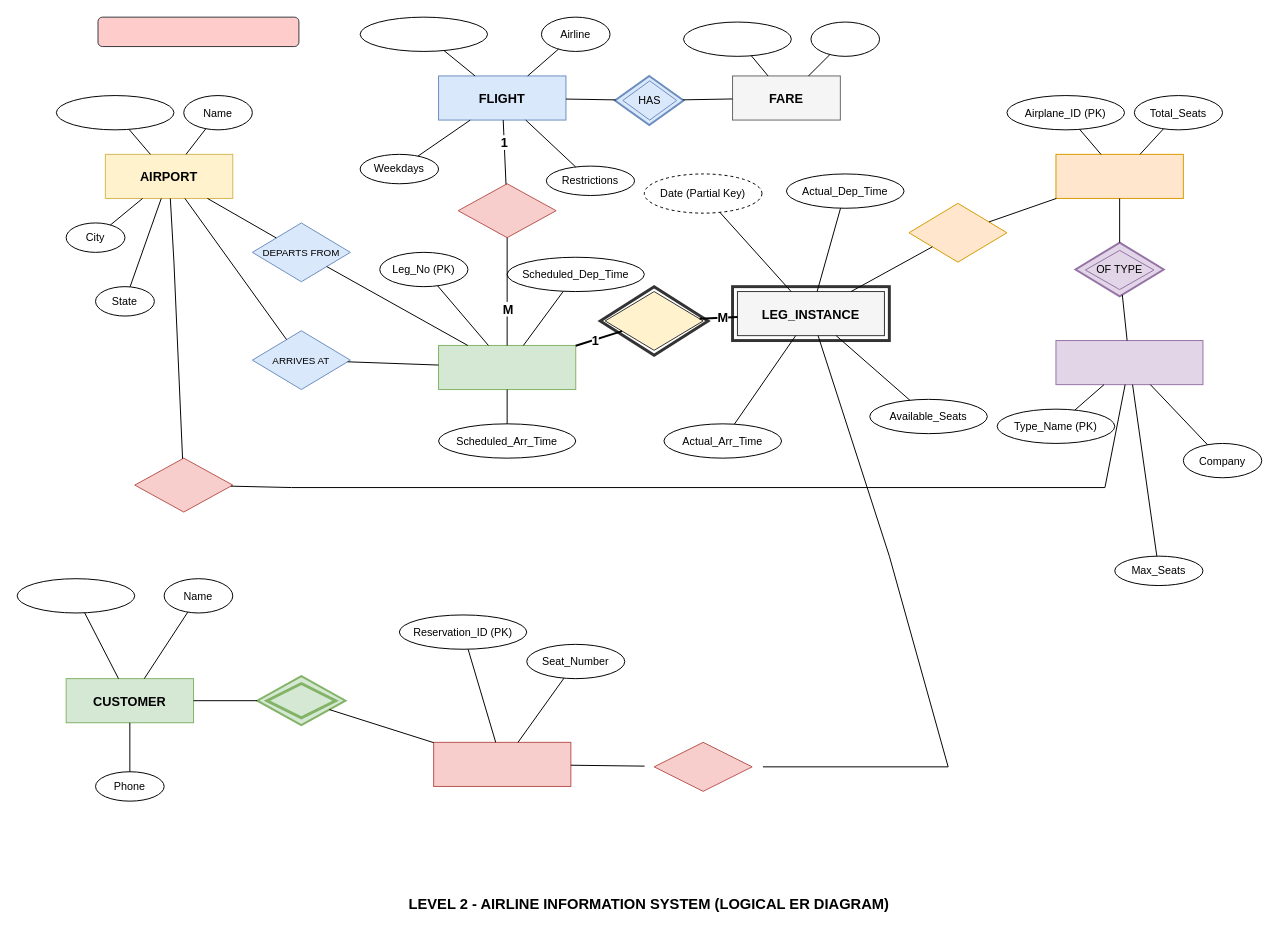
This 1279x936 diagram has some shape labels left out. Here are the shapes that lost their labels. From the top down, the centre of each, then its label:
the point at 198,31: Mohammed said Alshandoodi
the point at 423,33: Flight_Number (PK)
the point at 737,38: Fare_Code (PK)
the point at 845,38: Amount
the point at 114,112: Airport_Code (PK)
the point at 1119,175: AIRPLANE
the point at 506,210: INCLUDES
the point at 957,232: ASSIGNED TO
the point at 653,320: HAS INSTANCE
the point at 507,367: FLIGHT_LEG
the point at 1129,362: AIRPLANE_TYPE
the point at 183,484: CAN LAND
the point at 75,595: Customer_ID (PK)
the point at 301,700: MAKES
the point at 502,763: RESERVATION
the point at 702,766: HAS SEAT
